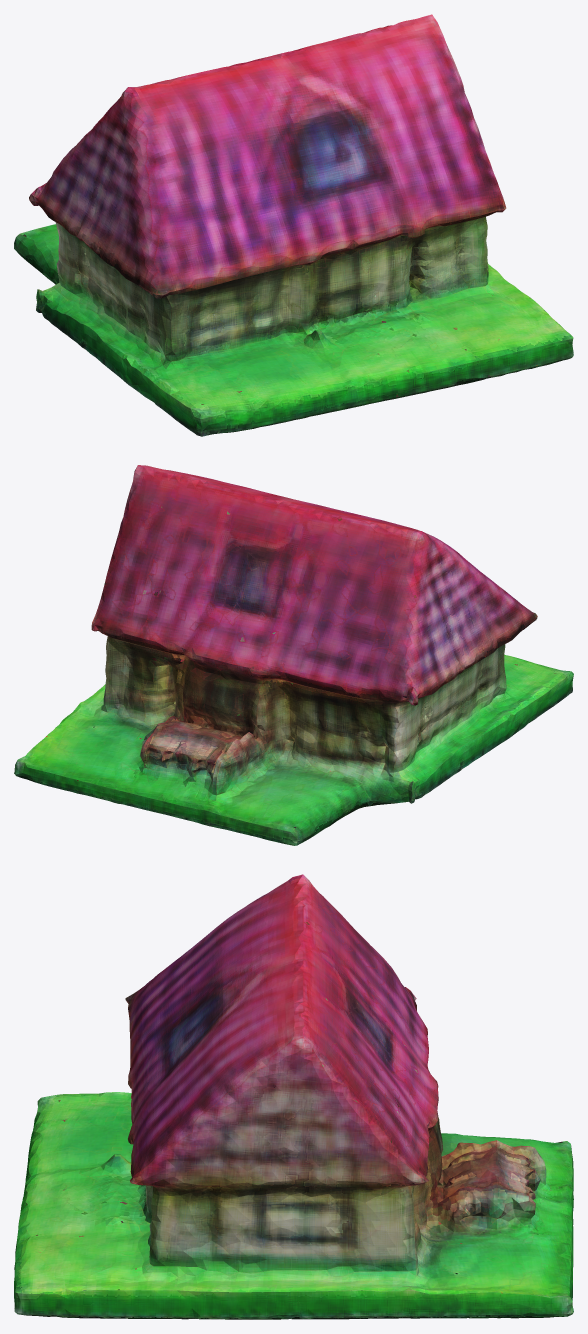
File: a house_15.glb
3 views of the same model, one above another, from view 1: azimuth 30°, elevation 25°; view 2: azimuth 150°, elevation 25°; view 3: azimuth 270°, elevation 25° (orthographic). The views are drawn at different scales.
Size of the model in its own units: 0.6885 by 0.4769 by 0.8154.
Materials: 1 (1 with a texture image).
